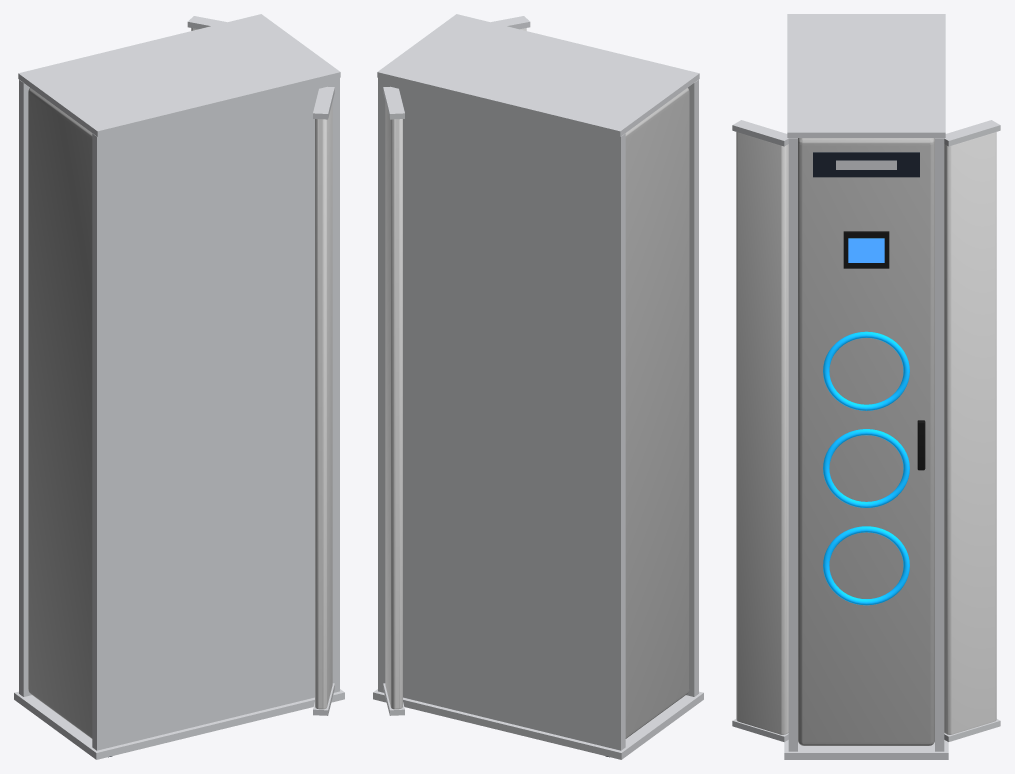
File: rdc.glb
The picture shows the model from 3 angles, left to right: view 1: azimuth 30°, elevation 25°; view 2: azimuth 150°, elevation 25°; view 3: azimuth 270°, elevation 25°; orthographic projection.
Visible parts, largest first — view 1: Mesh.267, Mesh.258, Mesh.275, Mesh.269, Mesh.268, Mesh.276; view 2: Mesh.268, Mesh.258, Mesh.275, Mesh.272, Mesh.267, Mesh.276; view 3: Mesh.258, Mesh.269, Mesh.272, Mesh.275, Mesh.267, Mesh.268, Mesh.276, Mesh.259, Mesh.265, Mesh.263, Mesh.264, Mesh.261 (+4 smaller).
Boxes of the visible parts, x1,y1,x2,y2 form: Mesh.267: (92, 78, 339, 750); Mesh.258: (28, 87, 92, 738); Mesh.275: (18, 14, 340, 136); Mesh.269: (315, 102, 332, 709); Mesh.268: (19, 79, 31, 696); Mesh.276: (14, 689, 344, 759); Mesh.268: (378, 78, 625, 750); Mesh.258: (625, 87, 689, 738); Mesh.275: (377, 14, 699, 136); Mesh.272: (385, 102, 402, 709); Mesh.267: (686, 79, 698, 696); Mesh.276: (373, 689, 703, 759); Mesh.258: (798, 138, 934, 745); Mesh.269: (736, 132, 788, 734); Mesh.272: (944, 132, 996, 734); Mesh.275: (787, 14, 945, 137); Mesh.267: (788, 138, 797, 751); Mesh.268: (935, 138, 944, 751); Mesh.276: (784, 740, 948, 759); Mesh.259: (813, 152, 919, 177); Mesh.265: (823, 526, 909, 605); Mesh.263: (823, 331, 909, 410); Mesh.264: (823, 429, 909, 507); Mesh.261: (843, 231, 889, 268).
Size of the model in its own units: 0.94 by 2.28 by 0.8793.
